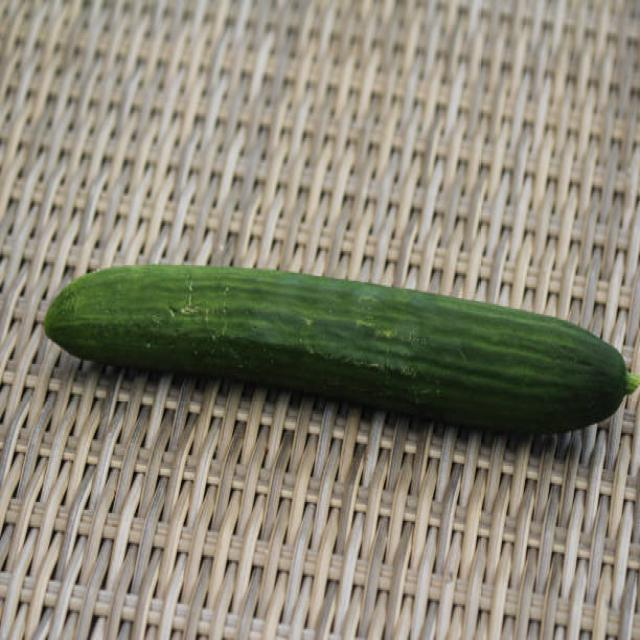cucumber: (44, 262, 624, 435)
